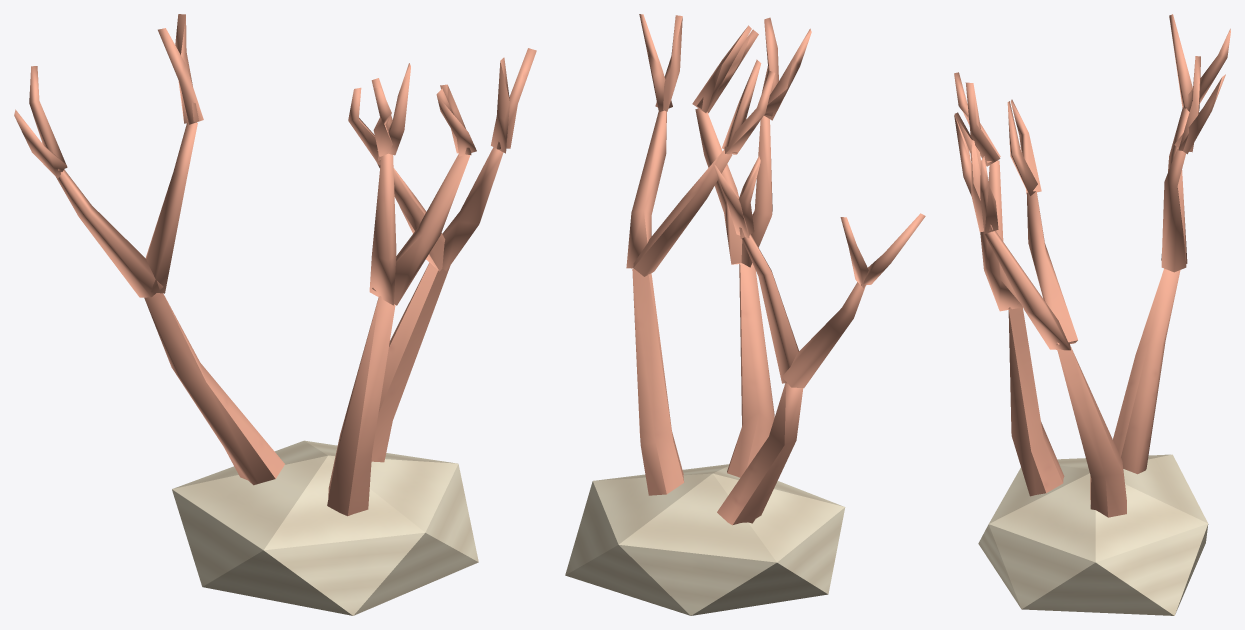
Rendered from coral_fan_b_lod1.gltf.
The picture shows the model from 3 angles, left to right: view 1: azimuth 30°, elevation 25°; view 2: azimuth 150°, elevation 25°; view 3: azimuth 270°, elevation 25°; orthographic projection. The views are drawn at different scales.
Visible parts, largest first — view 1: coral_fan_b_LOD1; view 2: coral_fan_b_LOD1; view 3: coral_fan_b_LOD1.
Part boxes in pixels (x1=…): coral_fan_b_LOD1: x1=14, y1=14, x2=536, y2=615; coral_fan_b_LOD1: x1=565, y1=14, x2=925, y2=615; coral_fan_b_LOD1: x1=954, y1=14, x2=1230, y2=615.
Size of the model in its own units: 0.9309 by 1.17 by 0.6004.
Materials: 1 (1 with a texture image).
